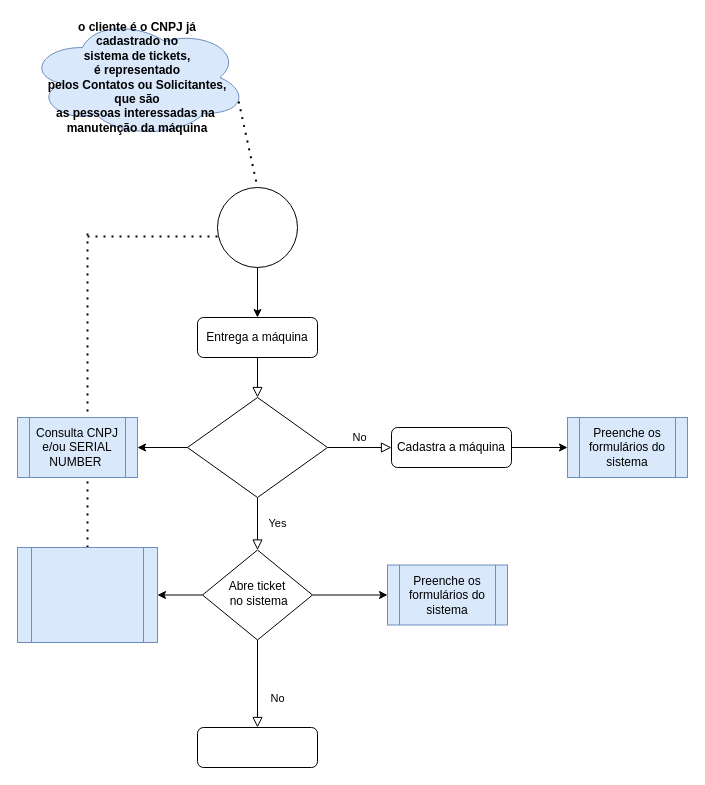
This 705x785 diagram has some shape labels left out. The shapes that lost their labels are listed below. From the top down, each one's centre as x and y in pixels, then its label:
At point 257,227: "CLIENTE".
At point 257,447: "Máquina está cadastrada no sistema?".
At point 87,594: "Sistema envia número do ticket via email para o Contato/Solicitante da empresa".
At point 257,747: "Repair Lamp".
